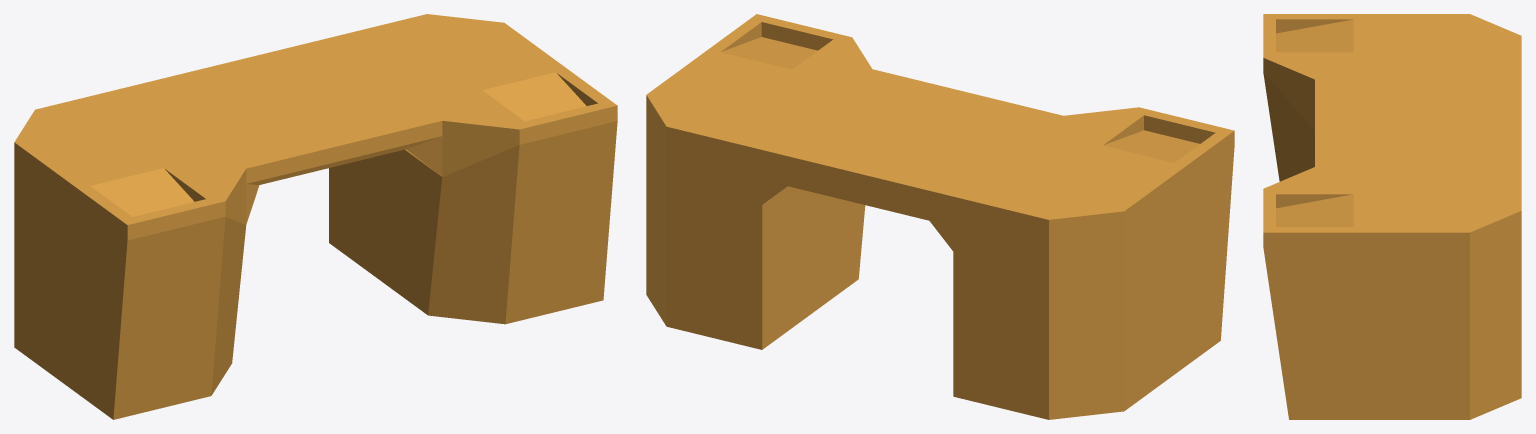
The model's file is scifi-scifi-table.glb.
3 views of the same model, side by side, from view 1: azimuth 30°, elevation 25°; view 2: azimuth 150°, elevation 25°; view 3: azimuth 270°, elevation 25° (orthographic). The views are drawn at different scales.
Visible parts, largest first — view 1: scifi-table; view 2: scifi-table; view 3: scifi-table.
Boxes of the visible parts, x1,y1,x2,y2 form: scifi-table: [14, 14, 617, 419]; scifi-table: [646, 14, 1234, 419]; scifi-table: [1263, 14, 1521, 419].
Size of the model in its own units: 2 by 0.8 by 1.
